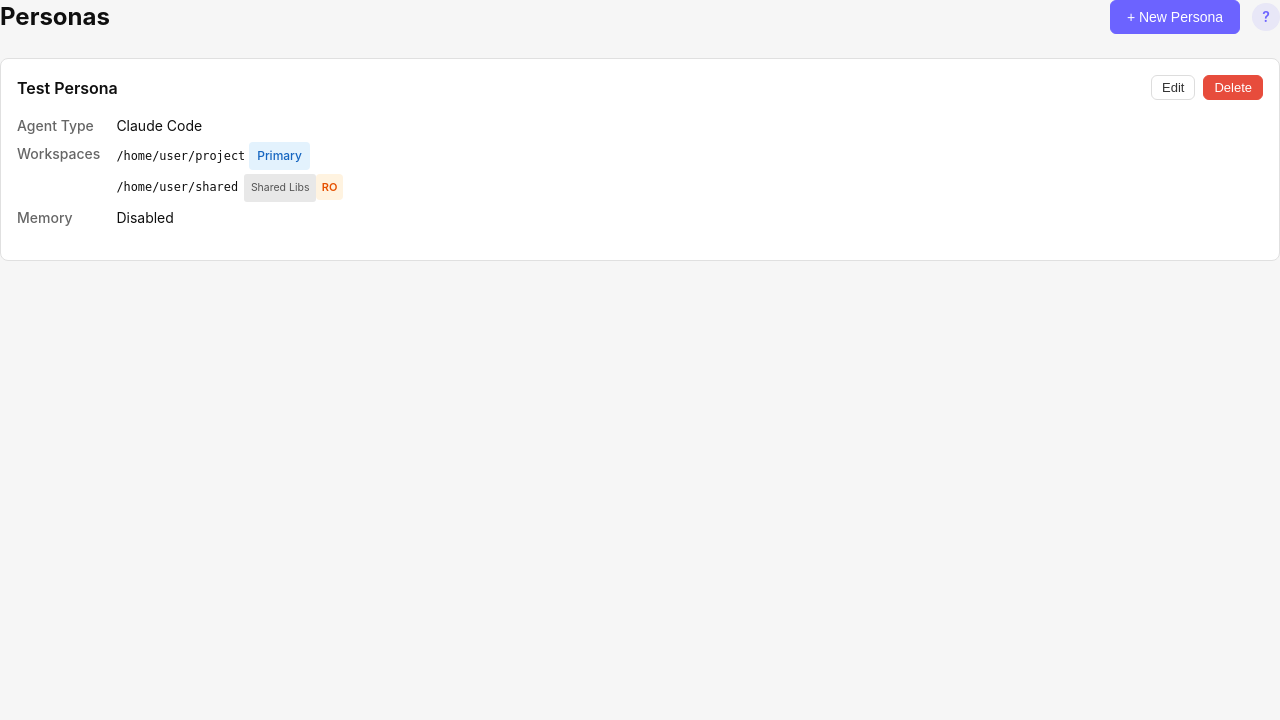
it: PersonasPage - Mirror Cleanup on Persona Deletion › shows mirror cleanup dialog when deleting persona with managed repos
Expected: the button "+ New Persona" is shown, [1110,0,1240,34]
// Click delete on the persona
Click the button with aria-label "Delete Test Persona": click(1233, 88) [1203,75,1263,100]
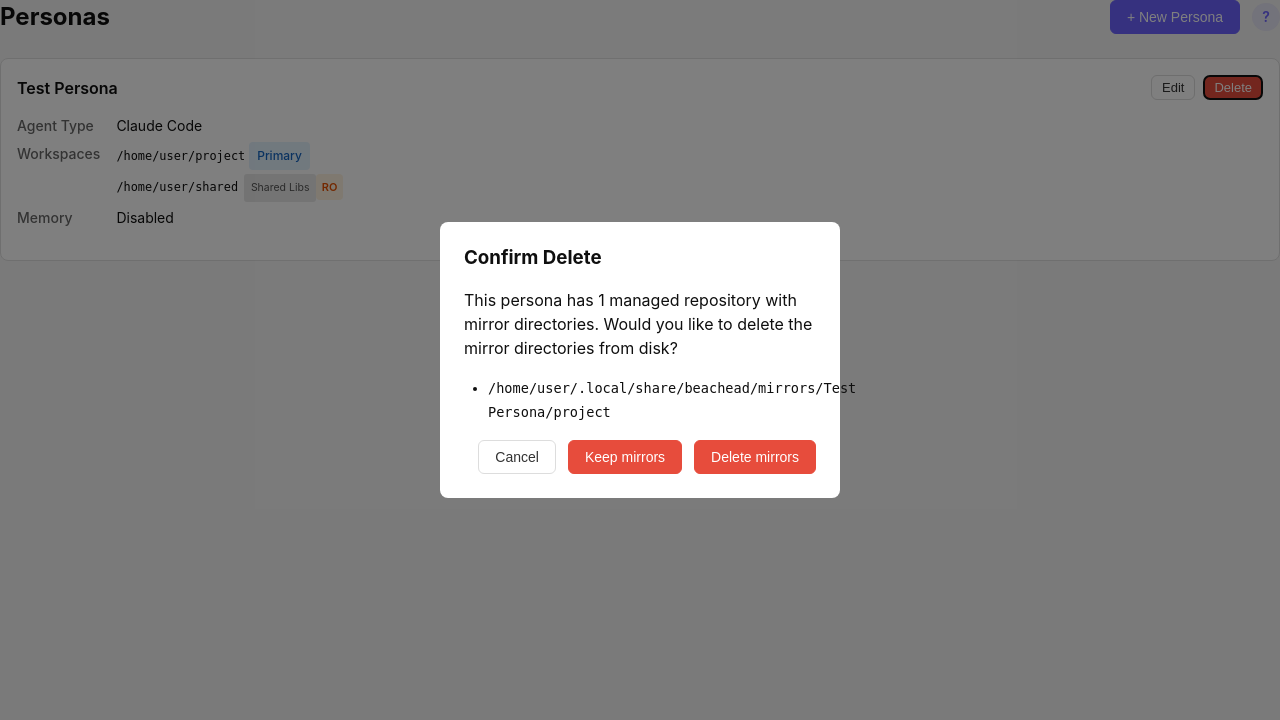
Result: the text "managed" is shown at [605,290,680,310]
Result: the text "mirror directories" is shown at [464,290,812,358]
Result: the text "/home/user/.local/share/beachead/mirrors/Test Persona/project" is shown at [488,380,856,420]
